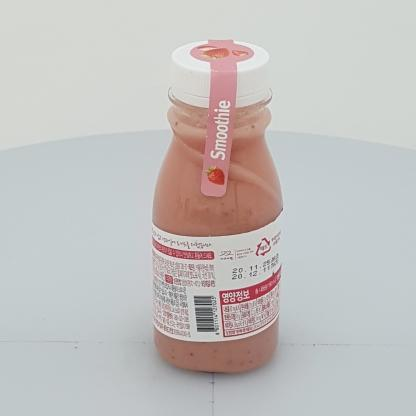--------------------190ML: (152, 40, 283, 373)
